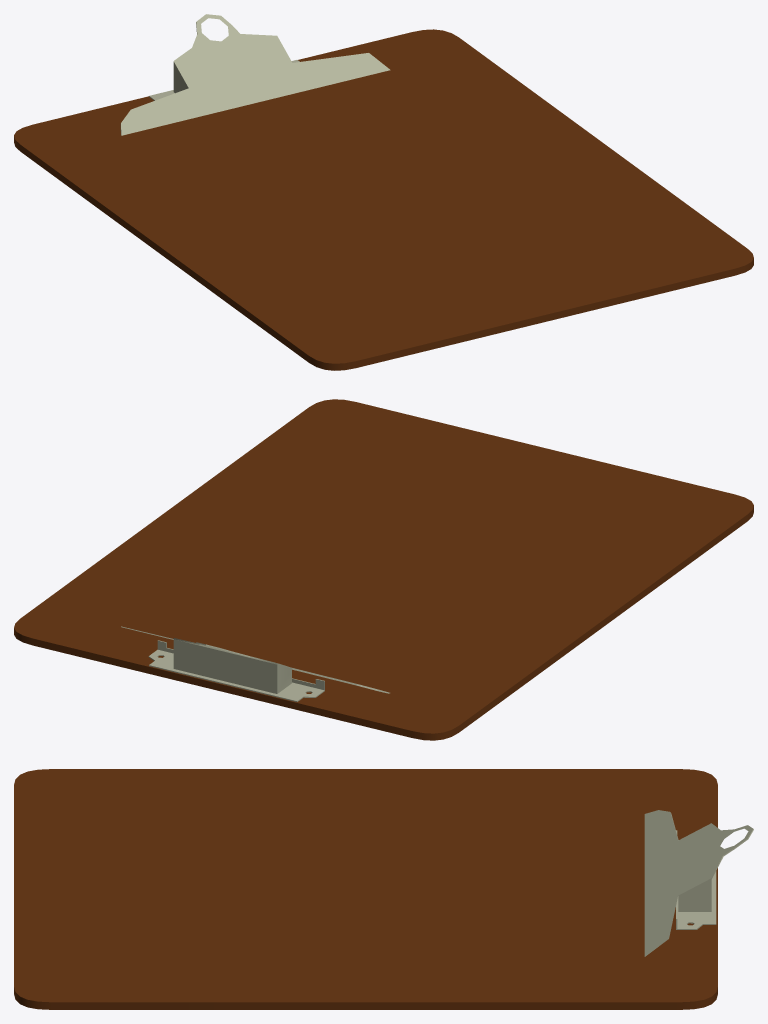
File: Clipboard.FBX
3 views of the same model, one above another, from view 1: azimuth 30°, elevation 25°; view 2: azimuth 150°, elevation 25°; view 3: azimuth 270°, elevation 25° (orthographic). The views are drawn at different scales.
Visible parts, largest first — view 1: Clipboard_HP; view 2: Clipboard_HP; view 3: Clipboard_HP.
Boxes of the visible parts, <box> form: Clipboard_HP: <box>14,14,753,370</box>; Clipboard_HP: <box>14,399,753,740</box>; Clipboard_HP: <box>14,769,753,1009</box>.
Bounding box in the file's own units: 277 × 35.77 × 371.
